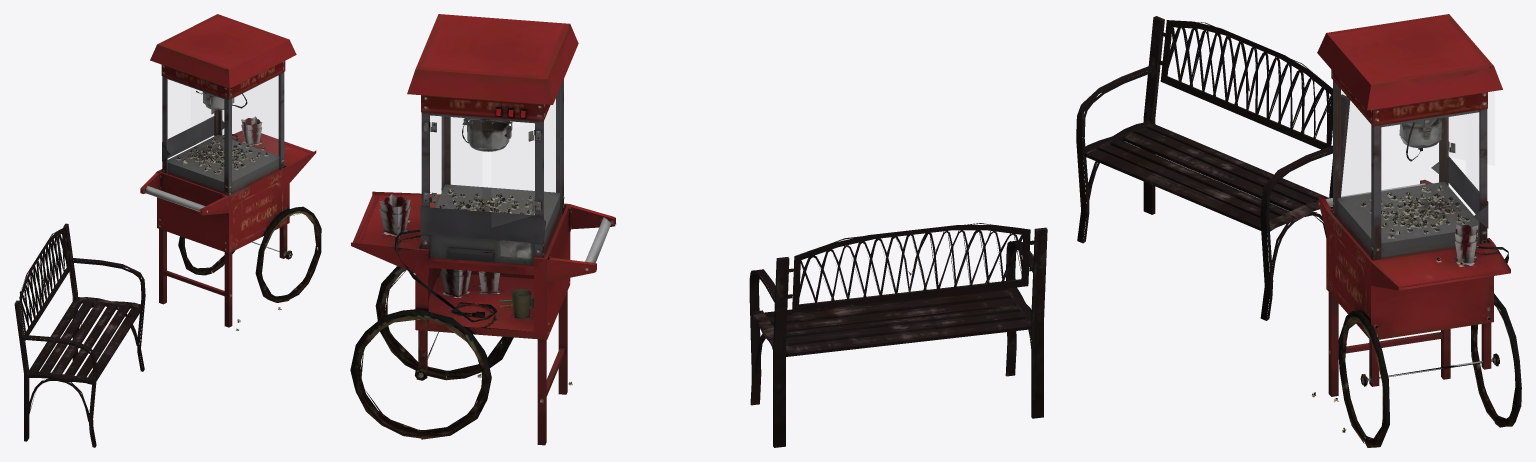
File: popcorn_cart.glb
The picture shows the model from 3 angles, left to right: view 1: azimuth 30°, elevation 25°; view 2: azimuth 150°, elevation 25°; view 3: azimuth 270°, elevation 25°; orthographic projection. The views are drawn at different scales.
Visible parts, largest first — view 1: baked, clear; view 2: baked, clear; view 3: baked, clear.
Part boxes in pixels (<box>): baked: <box>14,14,321,447</box>; clear: <box>191,76,278,155</box>; baked: <box>350,14,1047,447</box>; clear: <box>430,100,555,206</box>; baked: <box>1076,14,1521,447</box>; clear: <box>1341,90,1478,197</box>.
Bounding box in the file's own units: 2.45 × 1.55 × 1.74.
2 materials, 1 textured.
